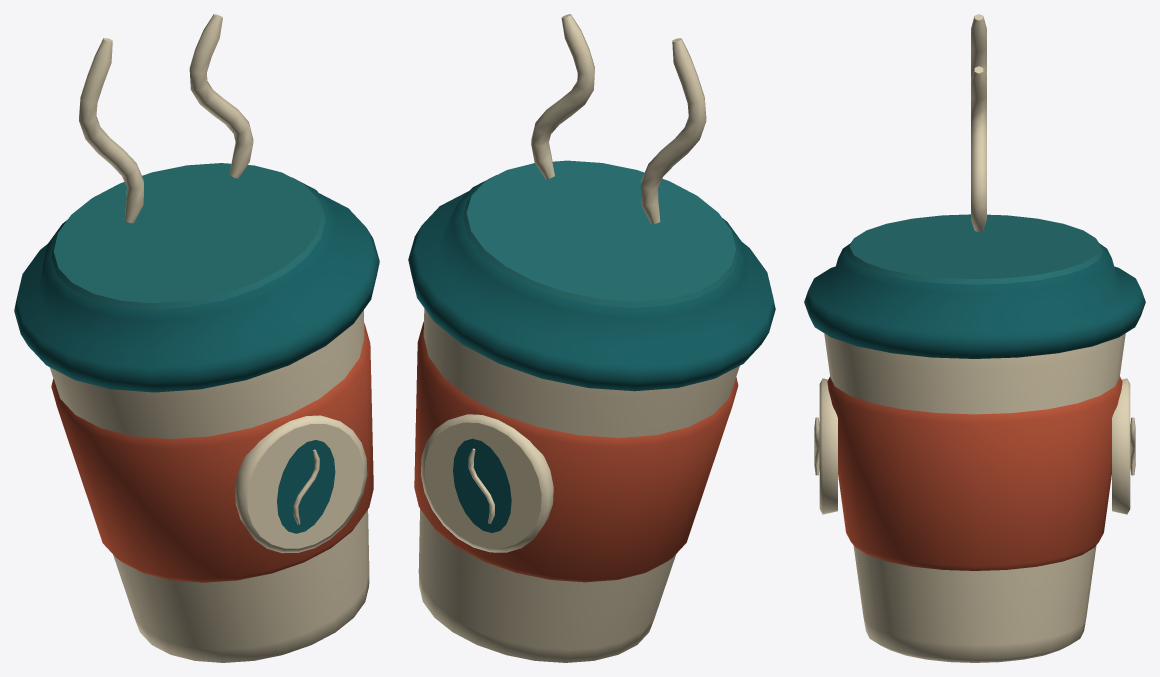
Rendered from berlin-coffee-sign-v1.glb.
3 renders of one model, left to right at view 1: azimuth 30°, elevation 25°; view 2: azimuth 150°, elevation 25°; view 3: azimuth 270°, elevation 25°, orthographic. The views are drawn at different scales.
Visible parts, largest first — view 1: Berlin Coffee Sign; view 2: Berlin Coffee Sign; view 3: Berlin Coffee Sign.
Boxes of the visible parts, left/top/right/bottom form: Berlin Coffee Sign: left=14, top=14, right=379, bottom=662; Berlin Coffee Sign: left=408, top=14, right=775, bottom=662; Berlin Coffee Sign: left=804, top=14, right=1145, bottom=662.
Bounding box in the file's own units: 1.28 × 2.41 × 1.3.
